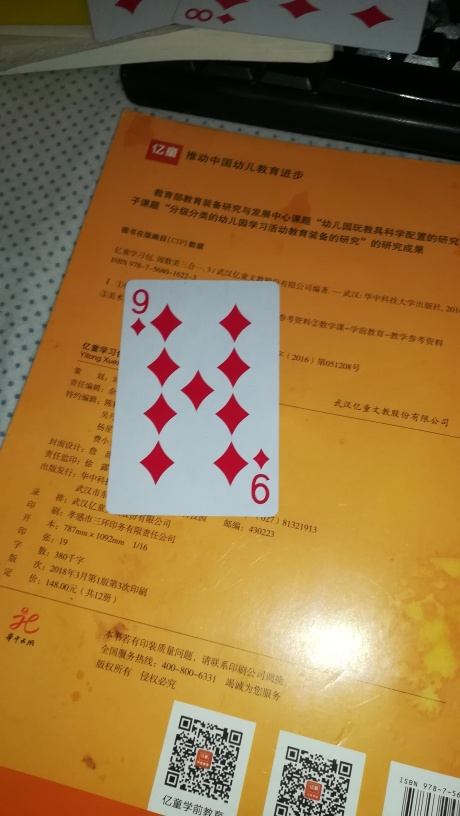fk 9: (102, 275, 281, 519)
